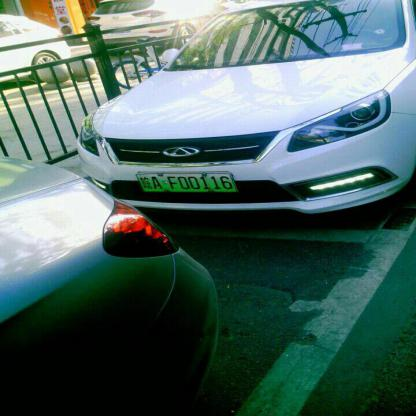lp: (135, 172, 237, 192)
